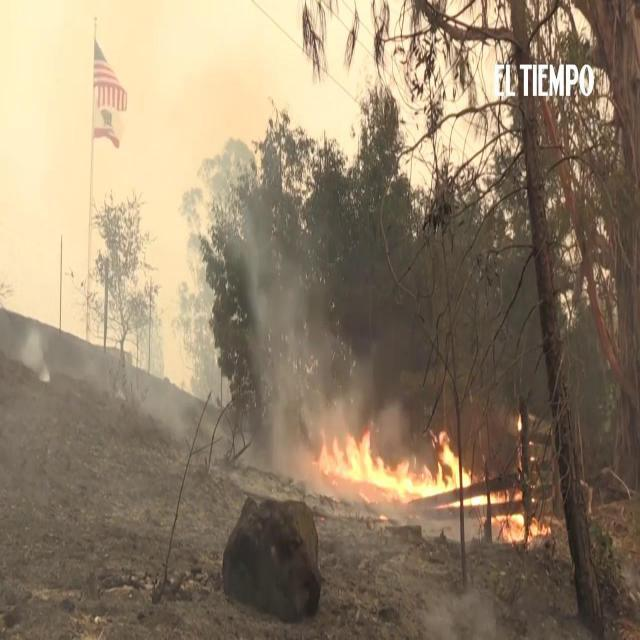Fire: (300, 415, 502, 505), (492, 512, 550, 540)
